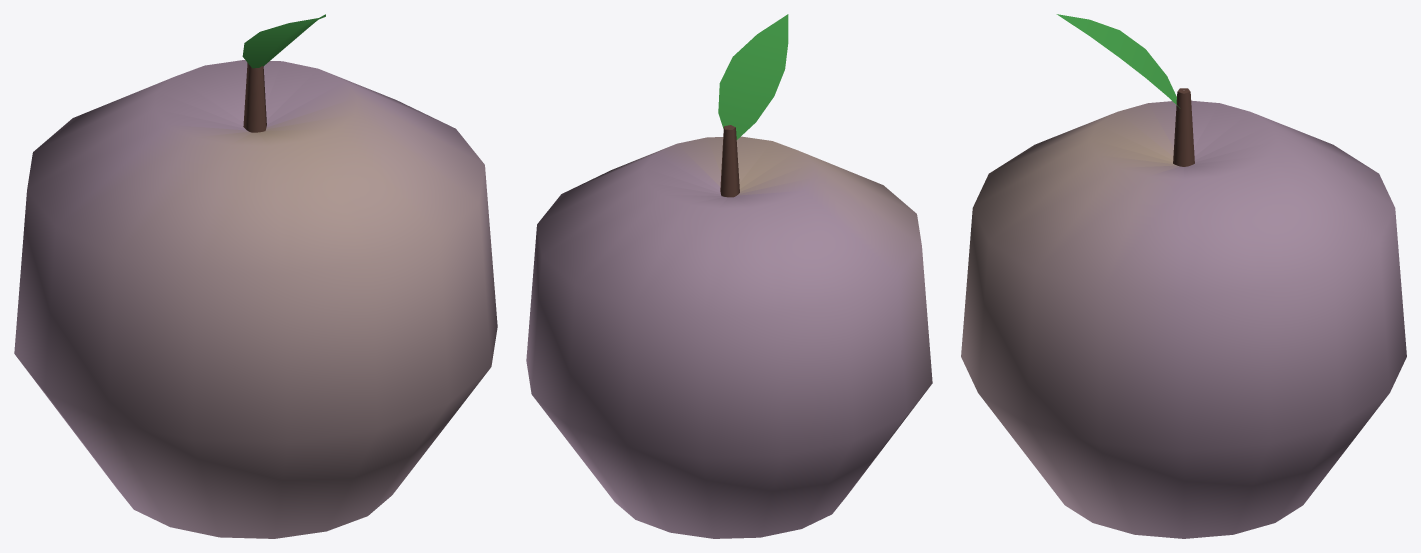
File: fruit-apple-chilled.gltf
3 renders of one model, left to right at view 1: azimuth 30°, elevation 25°; view 2: azimuth 150°, elevation 25°; view 3: azimuth 270°, elevation 25°, orthographic. The views are drawn at different scales.
Bounding box in the file's own units: 0.38 × 0.4523 × 0.38.
